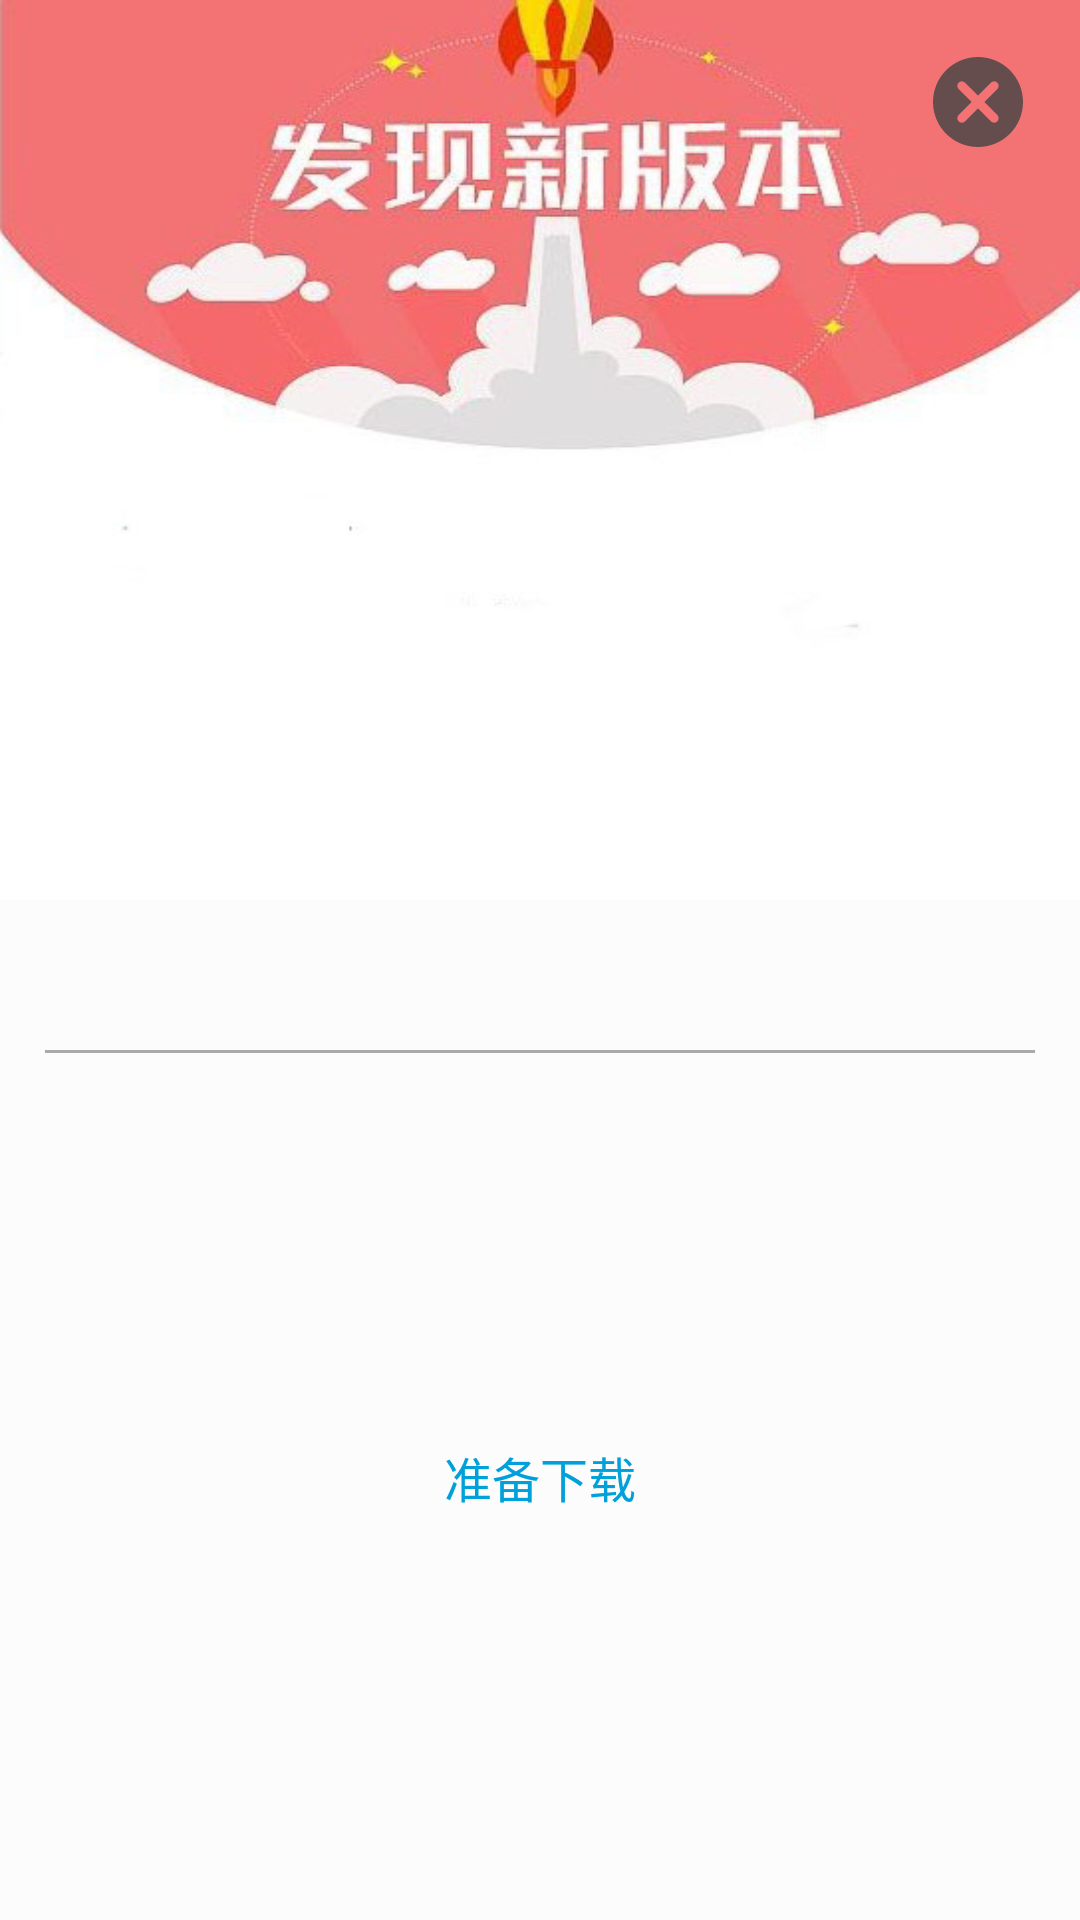

Icons on this 1080w x 1920h Android screen, each with the point to tap as (x=x, y=y):
cancel: (x=978, y=102)
